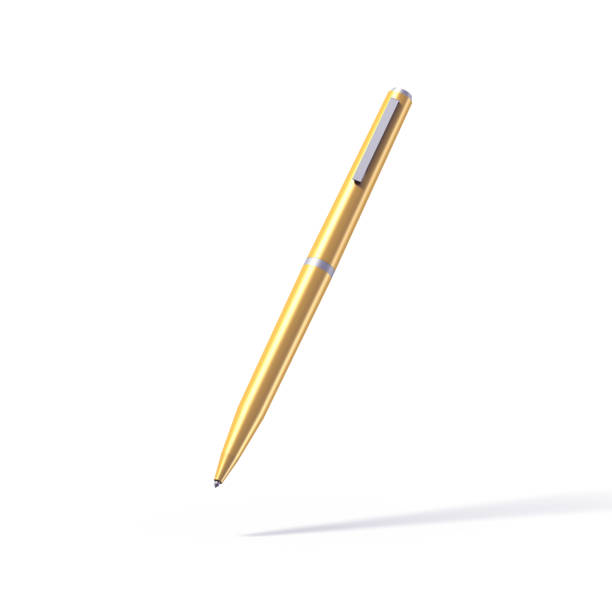pen: (186, 72, 427, 495)
